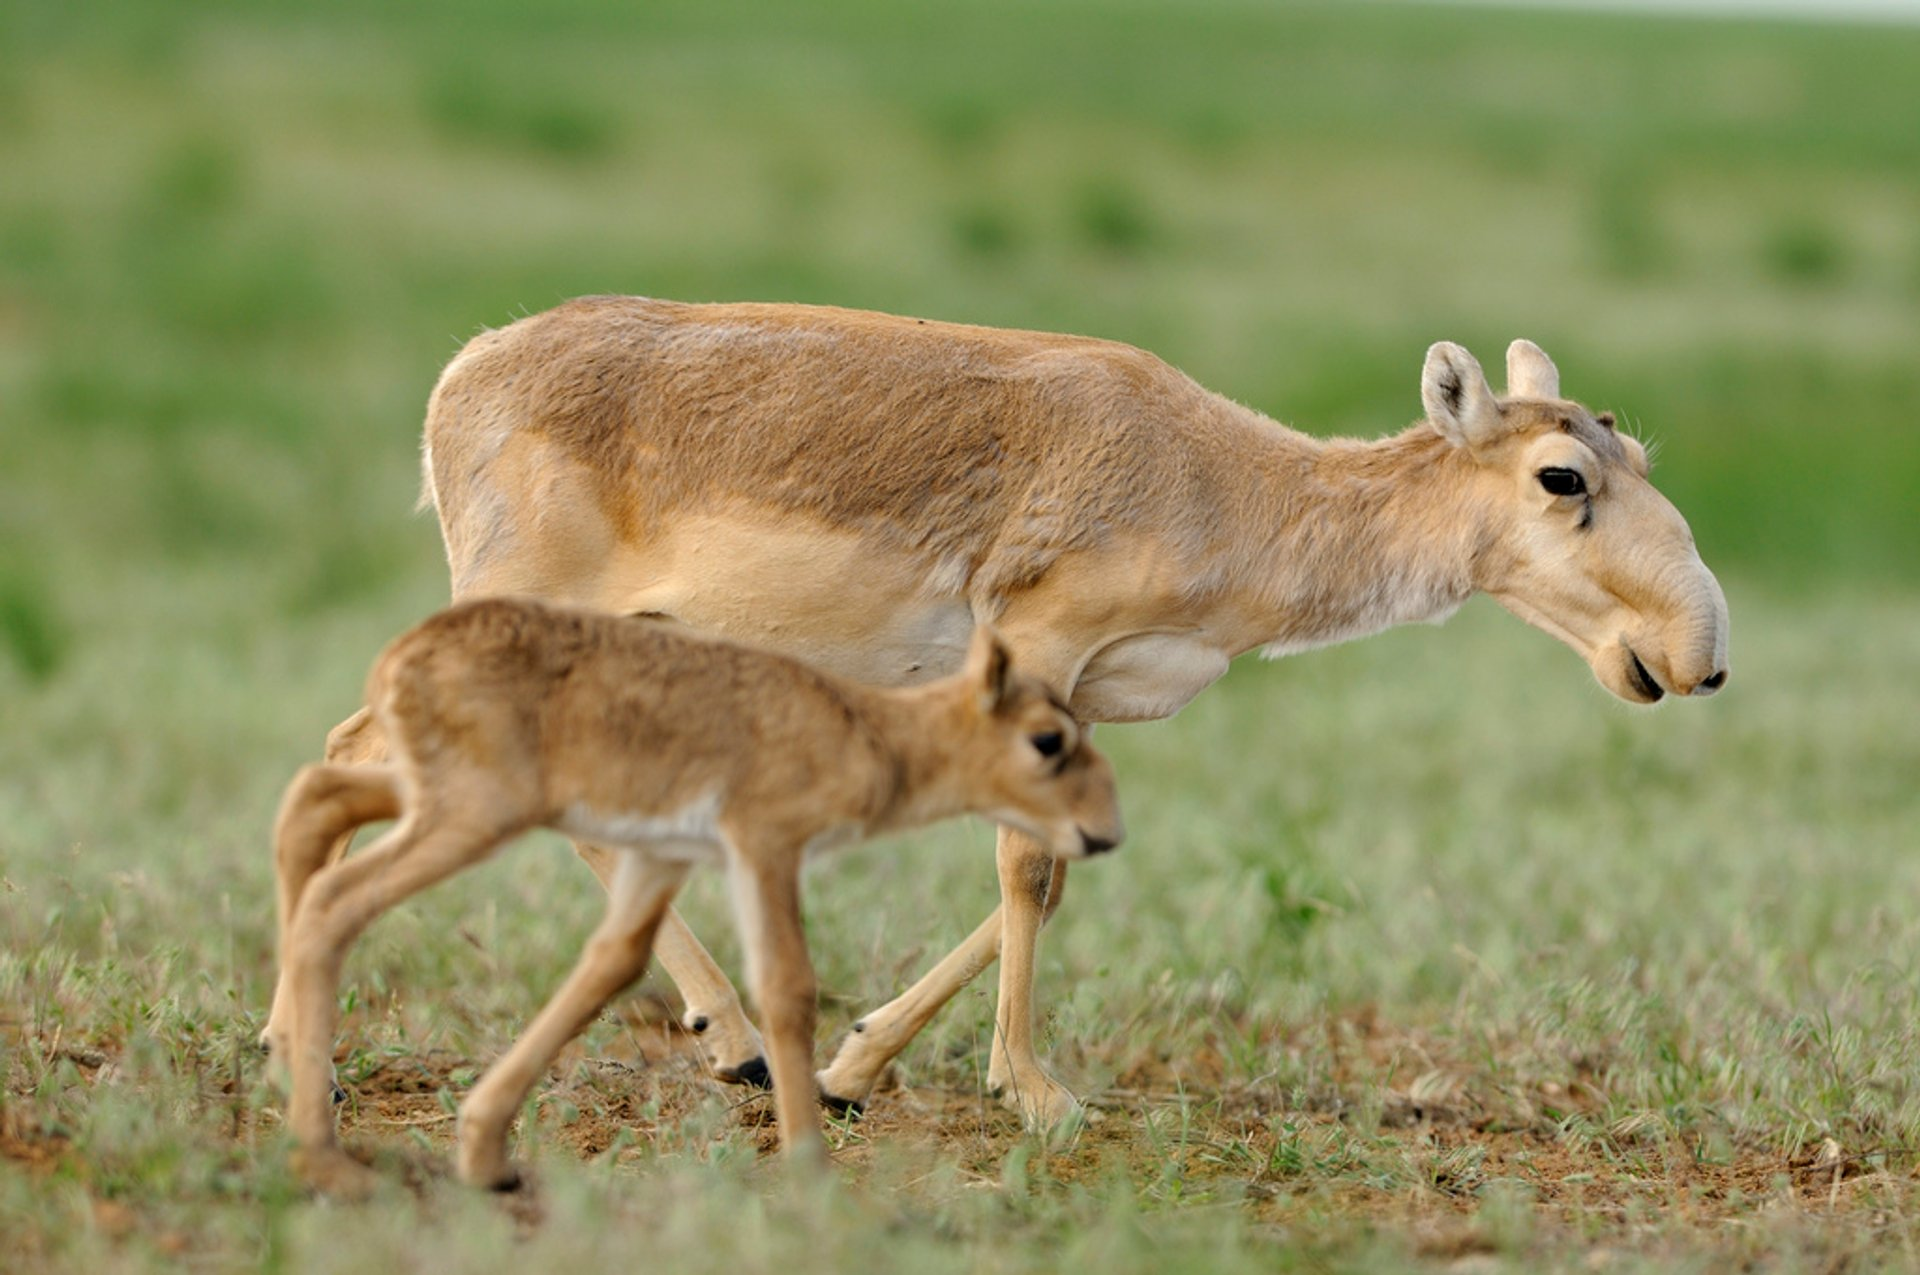saiga: (421, 290, 1721, 1155), (282, 601, 1125, 1227)
